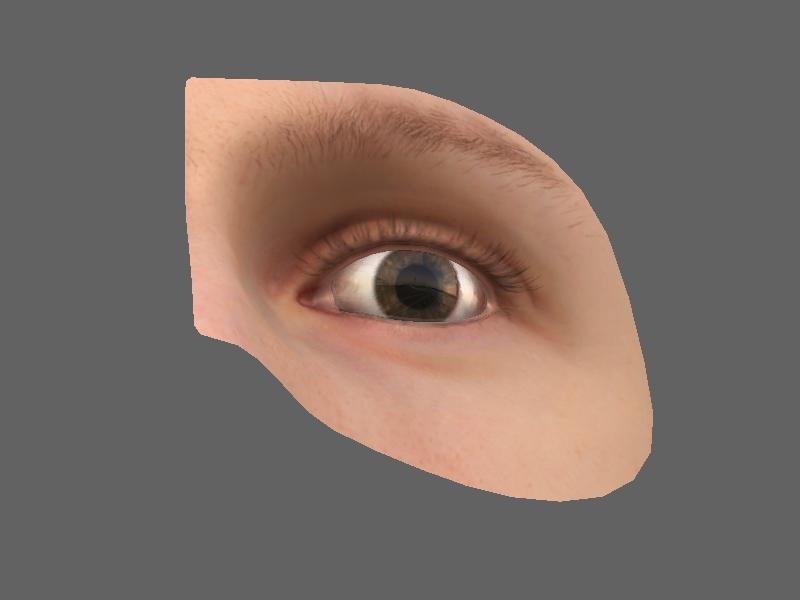iris: (372, 248, 466, 327)
